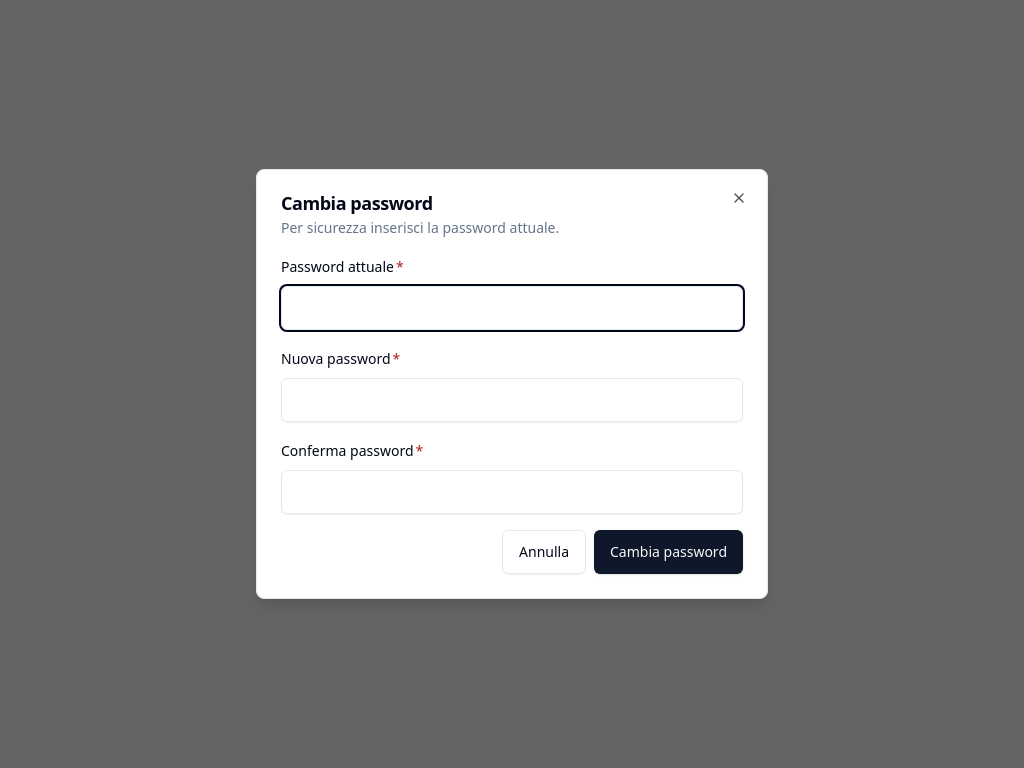
Test: ChangePasswordDialog › password attuale errata: errore sul campo giusto, il dialogo resta aperto e il token non cambia
Type "sbagliata-1" into the password field labelled "Password attuale*" at (512, 308), box 281,286 -> 743,330
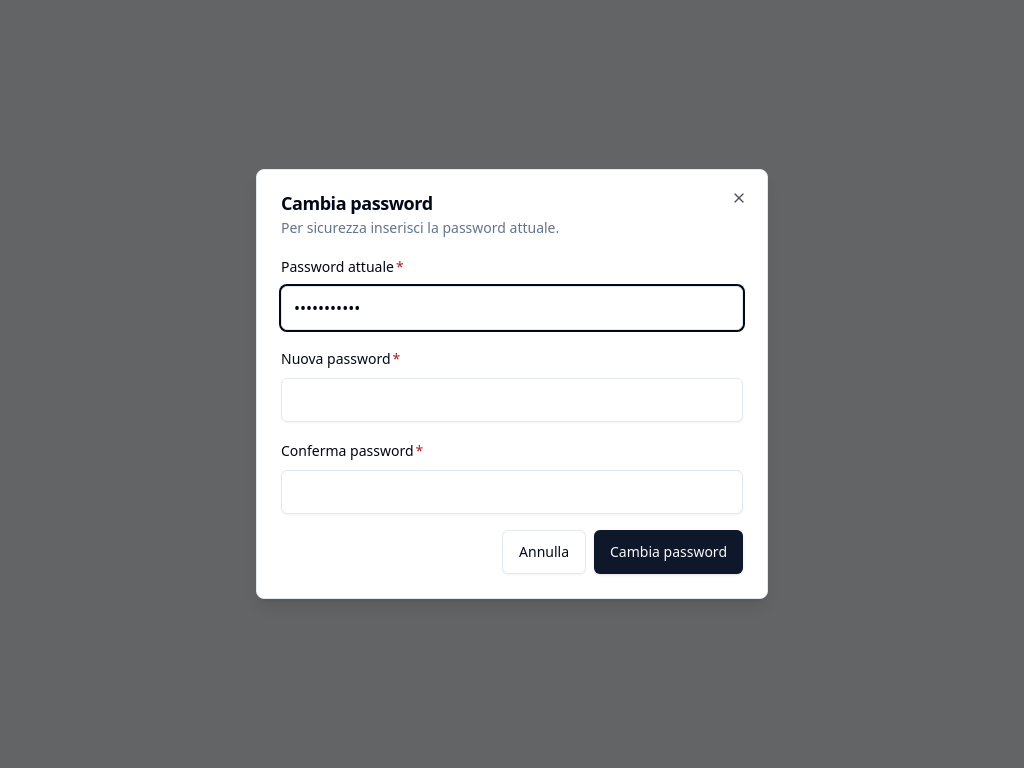
Type "nuova-password-1" into the password field labelled "Nuova password*" at (512, 400), box 281,378 -> 743,422
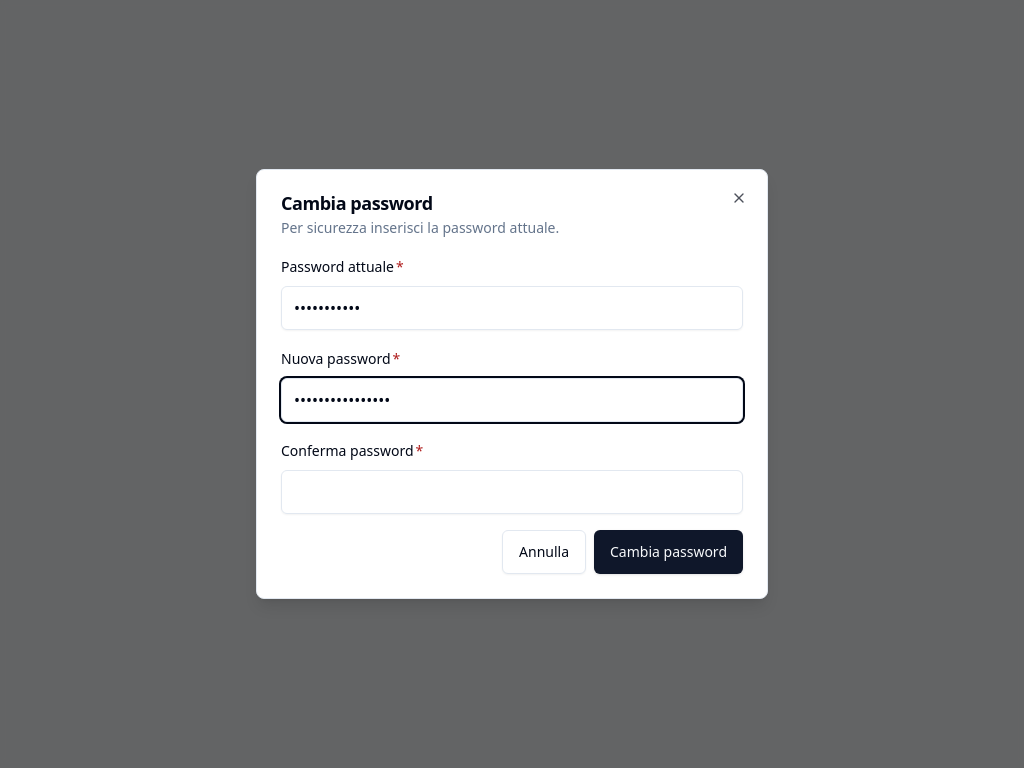
Type "nuova-password-1" into the password field labelled "Conferma password*" at (512, 492), box 281,470 -> 743,514
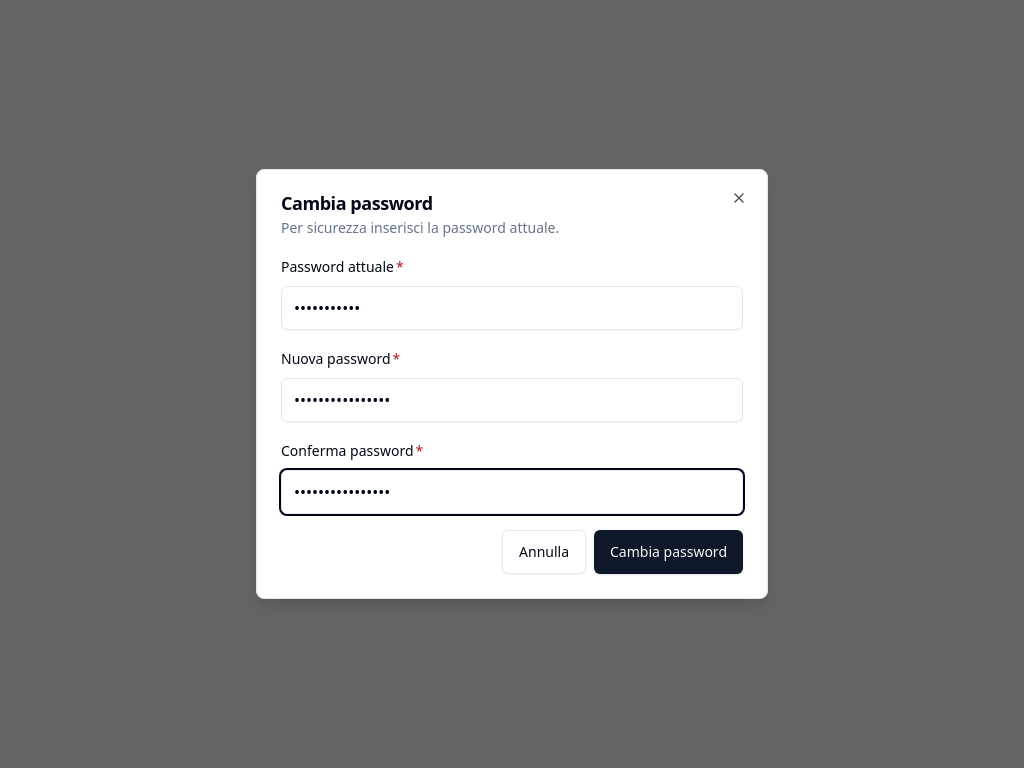
Click the button "Cambia password" at (668, 552), box 594,530 -> 743,574
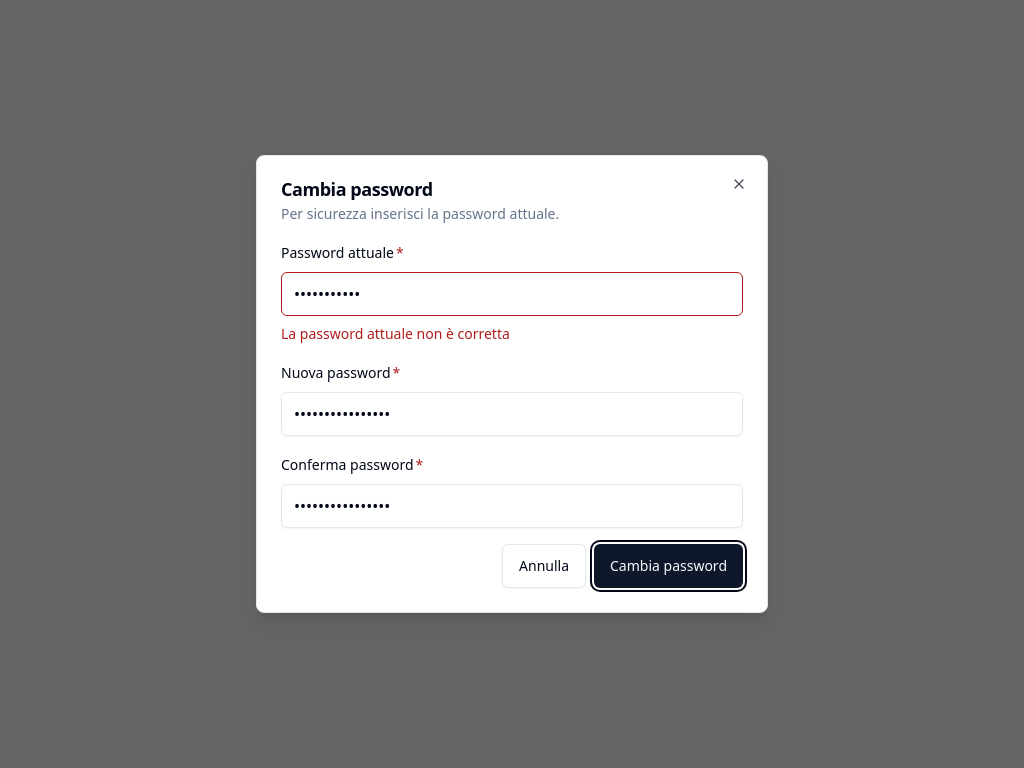
Now the text "La password attuale non è corretta" is shown, box 281,324 -> 510,343
